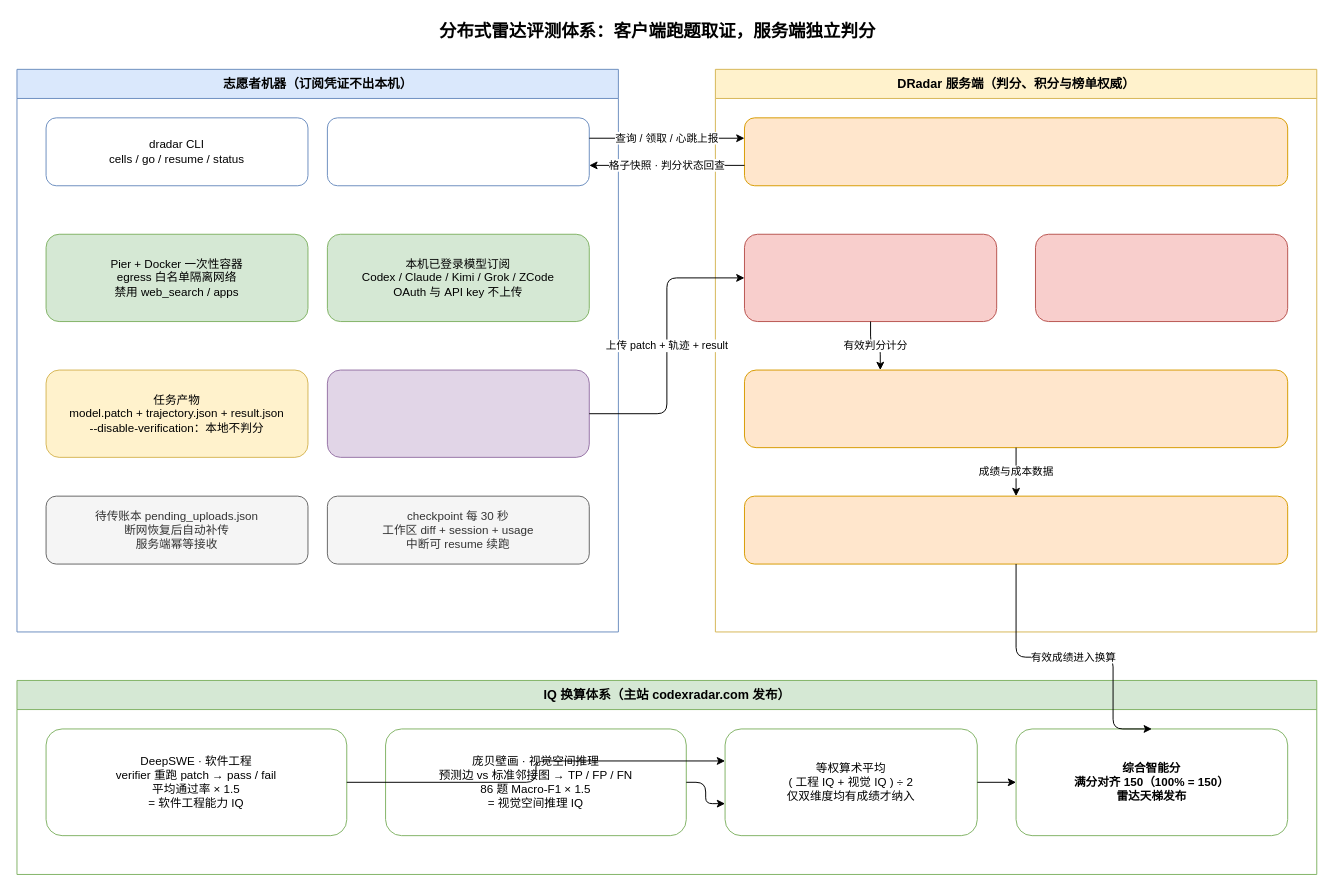
The diagram is 1334 pixels wide and 891 high, and some of its shapes have lost their labels. The shapes that lost their labels are listed below. From the top down, each one's centre as x and y in pixels, then its label:
[457,151]: 领取与心跳 claim / checkout / heartbeat 租约代际 resume_generation
[1016,151]: 格子大表 · 推荐 · 原子领取裁决 格子 = 任务 × 模型 × 推理档位 租约 / 并发上限 / 409 冲突码
[870,277]: 独立 verifier 重跑判分 干净容器重放 patch 客户端自报结果不算数
[1161,277]: 反作弊与审计 租约时间差 · 轨迹审计 可疑先冻结 → 人工复核
[457,413]: 上传前处理 scrub 两道脱敏 · patch 双副本 SHA-256 upload intent 内容绑定
[1016,408]: 积分与成本折算 token 账本计价 · 动态倍率 降智预警：相对 24/48h 均值持续下滑
[1016,529]: 有效成绩入库 滚动窗口通过率 / Macro-F1 更新
